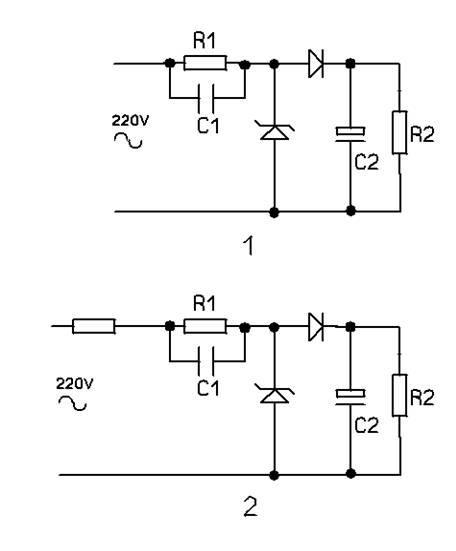cap1: (194, 341, 219, 380), (195, 80, 218, 116), (333, 385, 368, 408), (332, 124, 369, 145)
diode: (248, 117, 298, 148), (249, 380, 299, 407), (305, 308, 326, 348), (305, 47, 327, 84)
res1: (180, 314, 231, 338), (387, 107, 410, 157), (179, 51, 231, 73), (68, 315, 119, 337), (389, 370, 409, 421)
